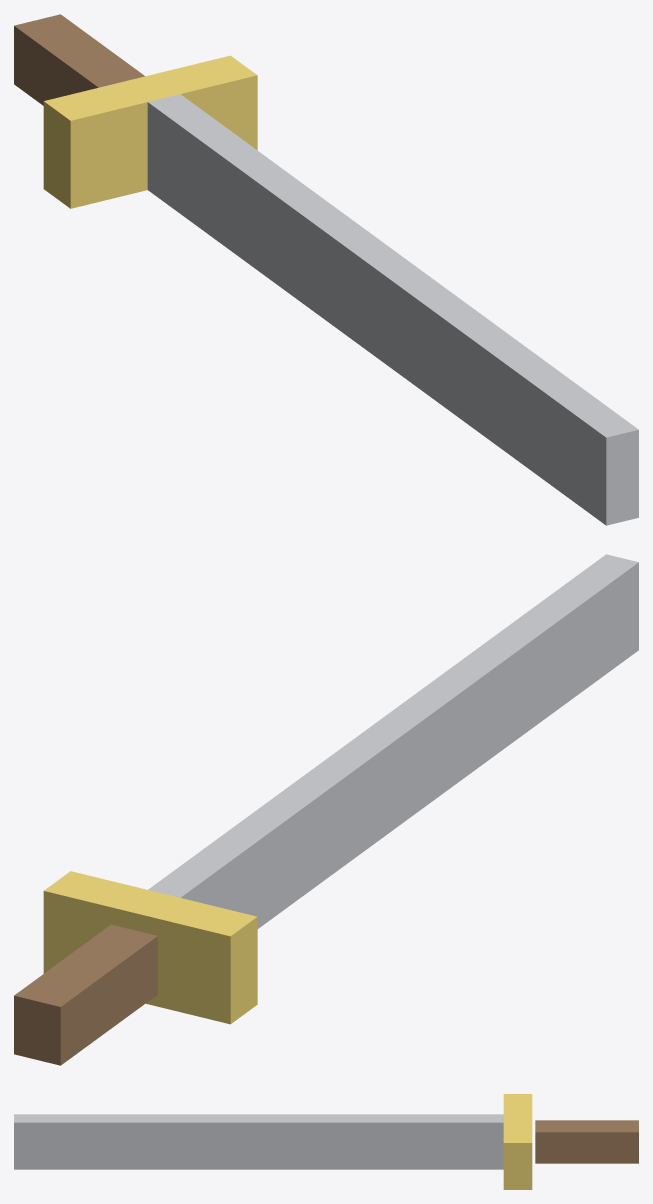
Rendered from Cutlass.fbx.
3 views of the same model, one above another, from view 1: azimuth 30°, elevation 25°; view 2: azimuth 150°, elevation 25°; view 3: azimuth 270°, elevation 25° (orthographic). The views are drawn at different scales.
Parts seen in each view (by area): view 1: Body; view 2: Body; view 3: Body.
Boxes of the visible parts, x1,y1,x2,y2 form: Body: [14, 14, 638, 525]; Body: [14, 554, 638, 1065]; Body: [14, 1094, 638, 1189].
Size of the model in its own units: 0.2 by 0.09 by 1.09.
